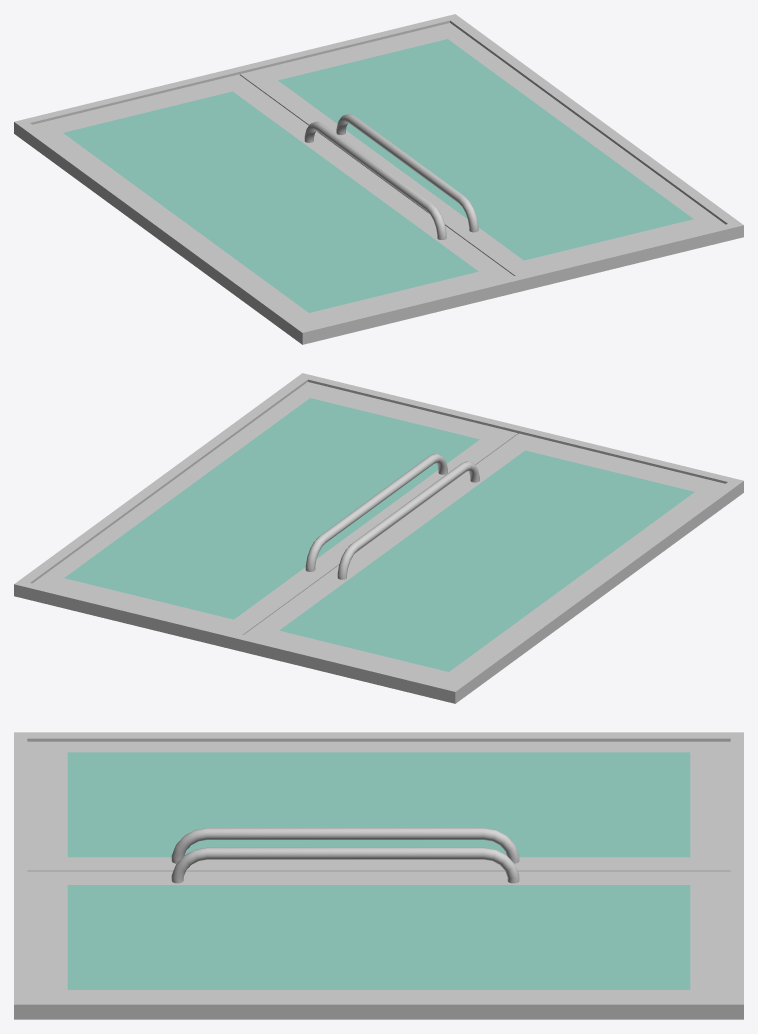
Rendered from HallDoor.fbx.
The picture shows the model from 3 angles, top to bottom: view 1: azimuth 30°, elevation 25°; view 2: azimuth 150°, elevation 25°; view 3: azimuth 270°, elevation 25°; orthographic projection. The views are drawn at different scales.
Parts seen in each view (by area): view 1: Door2.001, Door2, Doorfame; view 2: Door2.001, Door2, Doorfame; view 3: Door2, Door2.001, Doorfame.
Part boxes in pixels (<box>): Door2.001: <box>32,74,513,326</box>; Door2: <box>240,23,725,275</box>; Doorfame: <box>14,14,743,344</box>; Door2.001: <box>244,433,725,685</box>; Door2: <box>32,382,517,634</box>; Doorfame: <box>14,373,743,703</box>; Door2: <box>27,847,730,997</box>; Door2.001: <box>27,741,730,871</box>; Doorfame: <box>14,732,743,1019</box>.
Bounding box in the file's own units: 193 × 24.6 × 219.
